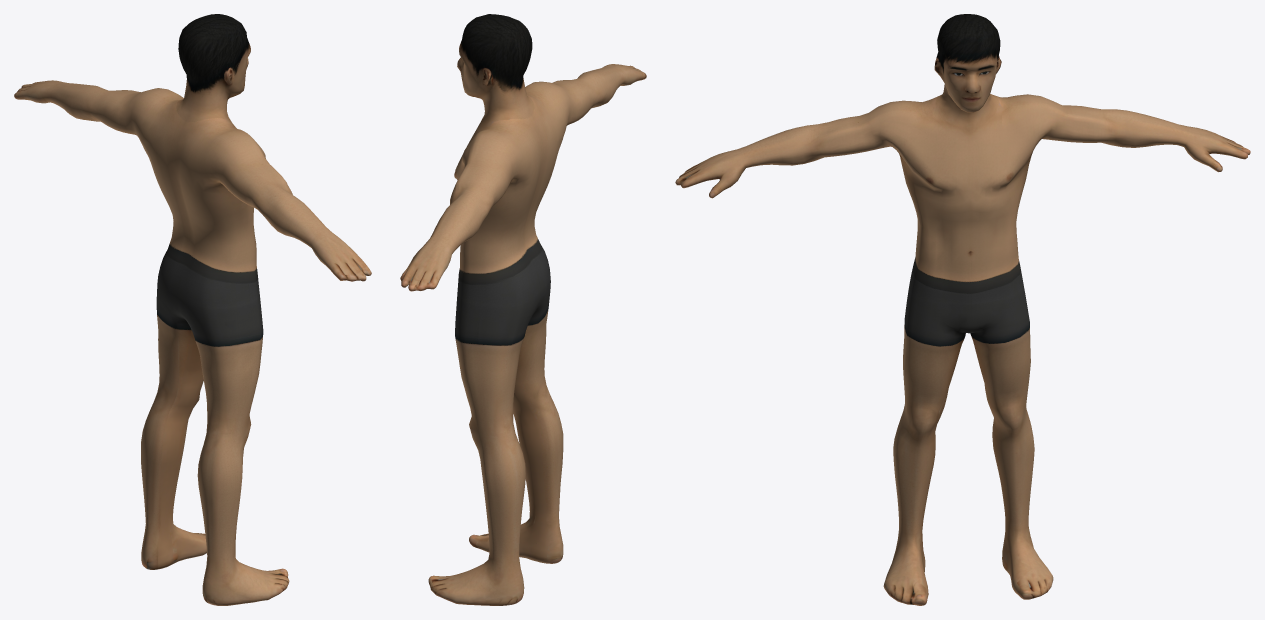
The model's file is asainmale.glb.
3 views of the same model, side by side, from view 1: azimuth 30°, elevation 25°; view 2: azimuth 150°, elevation 25°; view 3: azimuth 270°, elevation 25° (orthographic).
Visible parts, largest first — view 1: tripo_node_2a5f4fdf-566c-407c-901b-8e22c93b5070; view 2: tripo_node_2a5f4fdf-566c-407c-901b-8e22c93b5070; view 3: tripo_node_2a5f4fdf-566c-407c-901b-8e22c93b5070.
Boxes of the visible parts, left/top/right/bottom form: tripo_node_2a5f4fdf-566c-407c-901b-8e22c93b5070: left=14, top=14, right=371, bottom=605; tripo_node_2a5f4fdf-566c-407c-901b-8e22c93b5070: left=400, top=14, right=646, bottom=605; tripo_node_2a5f4fdf-566c-407c-901b-8e22c93b5070: left=675, top=14, right=1250, bottom=605.
Bounding box in the file's own units: 0.2233 × 1 × 0.918.
Materials: 1 (1 with a texture image).
